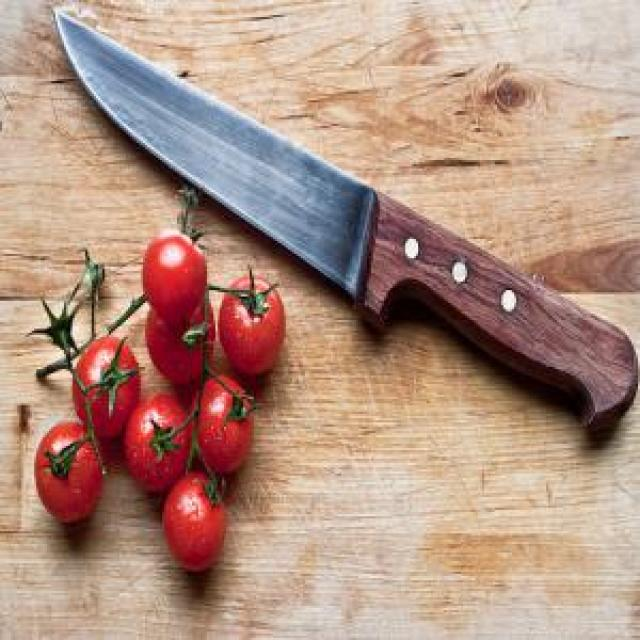knife: (51, 4, 638, 444)
